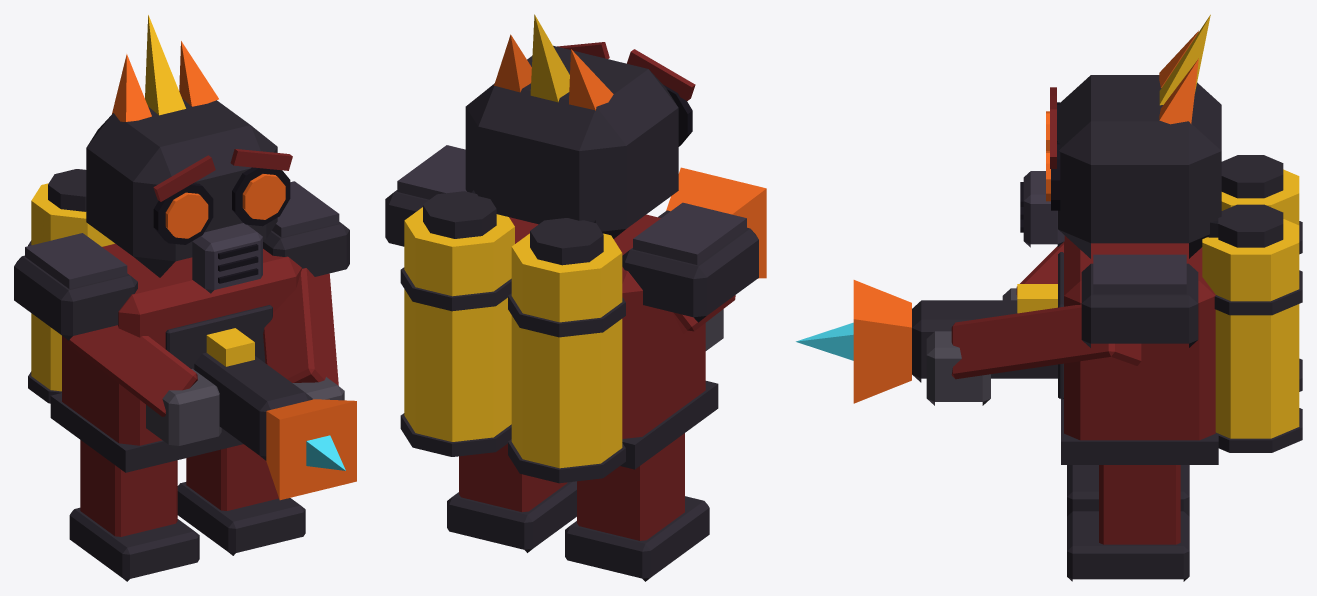
The model's file is r3_mini_flamecaster.glb.
3 renders of one model, left to right at view 1: azimuth 30°, elevation 25°; view 2: azimuth 150°, elevation 25°; view 3: azimuth 270°, elevation 25°, orthographic. The views are drawn at different scales.
Visible parts, largest first — view 1: r3_mini_flamecaster_mesh; view 2: r3_mini_flamecaster_mesh; view 3: r3_mini_flamecaster_mesh.
Boxes of the visible parts, x1,y1,x2,y2 form: r3_mini_flamecaster_mesh: (14,15,356,581); r3_mini_flamecaster_mesh: (385,14,766,581); r3_mini_flamecaster_mesh: (796,14,1302,581).
Bounding box in the file's own units: 2.73 × 4.5 × 3.95.
1 material, 1 textured.
